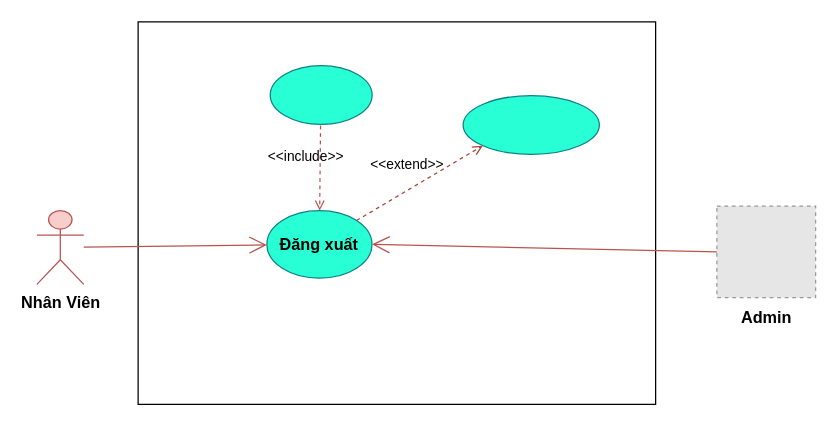
Some shapes in this 839 by 426 pixel diagram are drawn without their labels. Grey dashed boxes stand in for pictures. The box of each missing label's shape, as (x1, y1, x2, y2) in pixels:
Xác nhận đăng xuất: (269, 64, 372, 124)
Đăng nhập: (462, 94, 599, 154)
